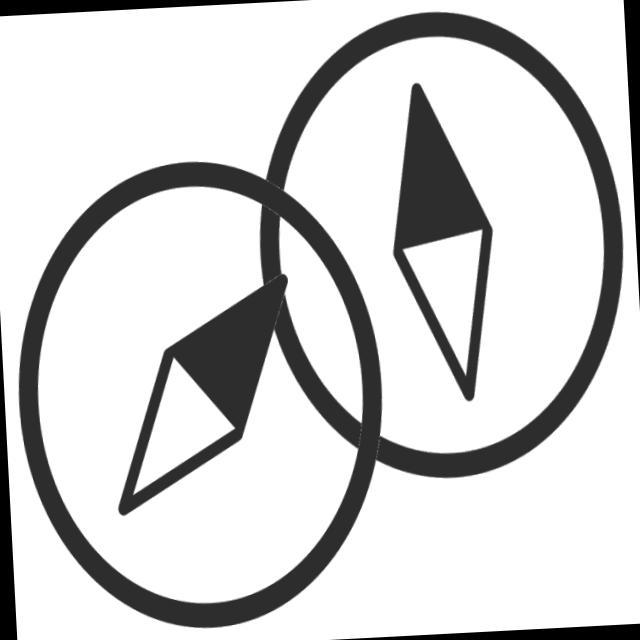compass: (242, 1, 640, 509), (1, 137, 402, 640)
